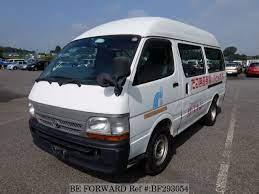van: (28, 12, 230, 176)
